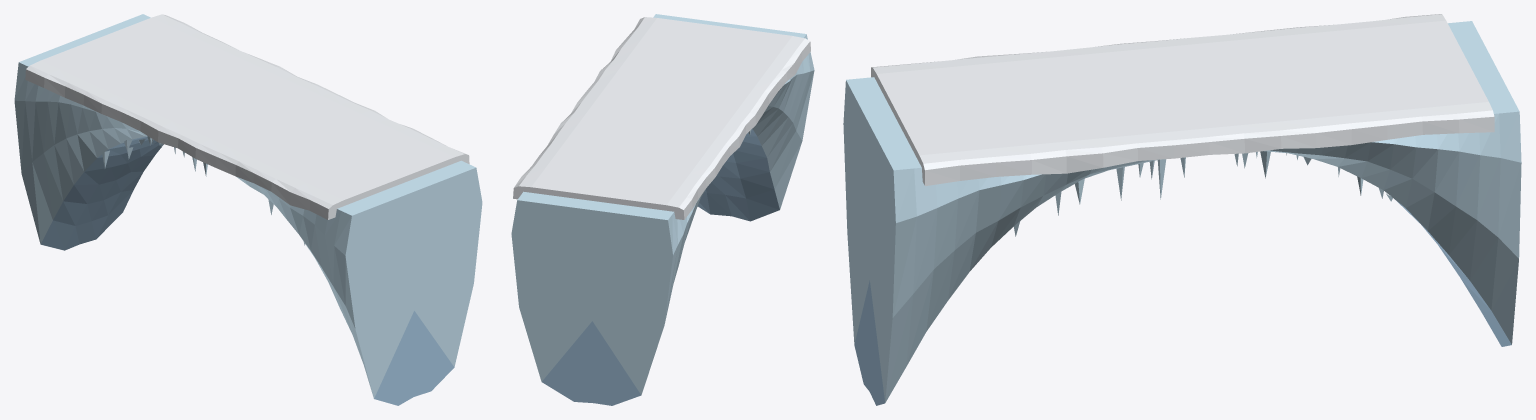
The picture shows the model from 3 angles, left to right: view 1: azimuth 30°, elevation 25°; view 2: azimuth 150°, elevation 25°; view 3: azimuth 270°, elevation 25°; orthographic projection. The views are drawn at different scales.
Visible parts, largest first — view 1: Mesh_L2A_IceArch_Main; view 2: Mesh_L2A_IceArch_Main; view 3: Mesh_L2A_IceArch_Main.
Part boxes in pixels (x1,y1,x2,y2): Mesh_L2A_IceArch_Main: (14,14,482,405); Mesh_L2A_IceArch_Main: (511,14,814,405); Mesh_L2A_IceArch_Main: (843,14,1521,405).
Size of the model in its own units: 9.63 by 7.95 by 17.55.
